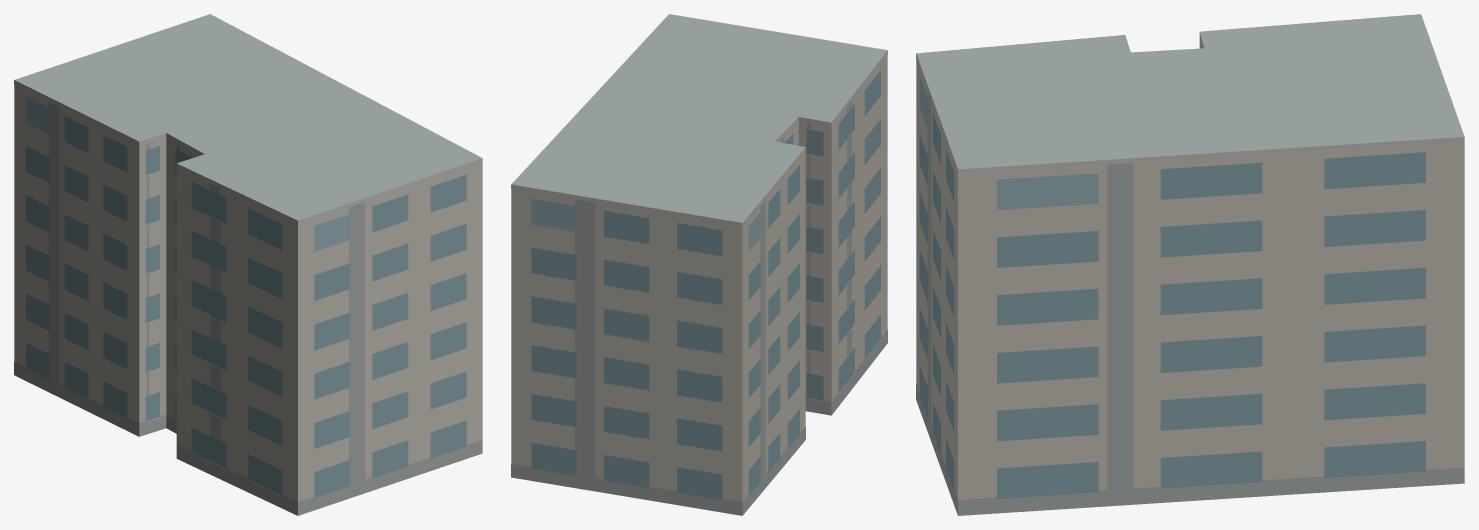
Rendered from survey-upis-32817508.glb.
3 renders of one model, left to right at view 1: azimuth 30°, elevation 25°; view 2: azimuth 150°, elevation 25°; view 3: azimuth 270°, elevation 25°, orthographic. The views are drawn at different scales.
Parts seen in each view (by area): view 1: survey-upis-32817508.tmp; view 2: survey-upis-32817508.tmp; view 3: survey-upis-32817508.tmp.
Part boxes in pixels (x1,y1,x2,y2): survey-upis-32817508.tmp: [14, 14, 482, 515]; survey-upis-32817508.tmp: [511, 14, 887, 515]; survey-upis-32817508.tmp: [916, 14, 1464, 515].
Size of the model in its own units: 16.35 by 17 by 24.39.
